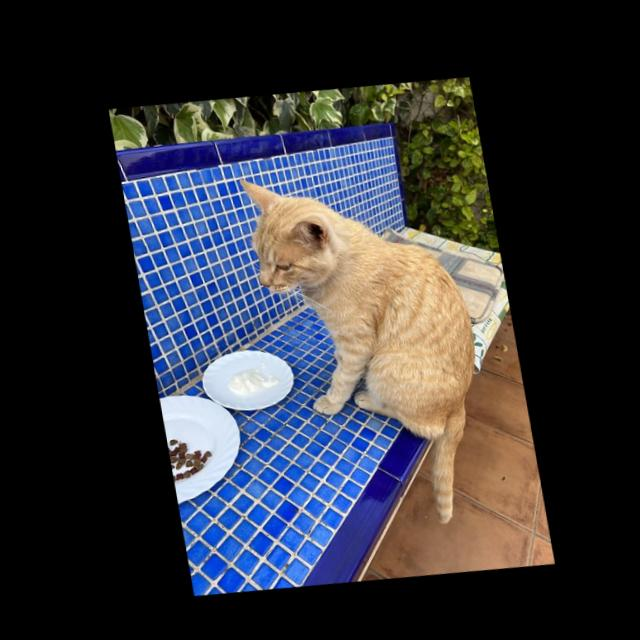animals: (237, 148, 504, 541)
